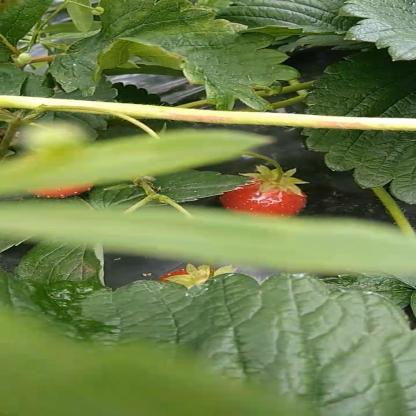ripe: (154, 262, 248, 308), (13, 154, 96, 202), (223, 176, 305, 220)
